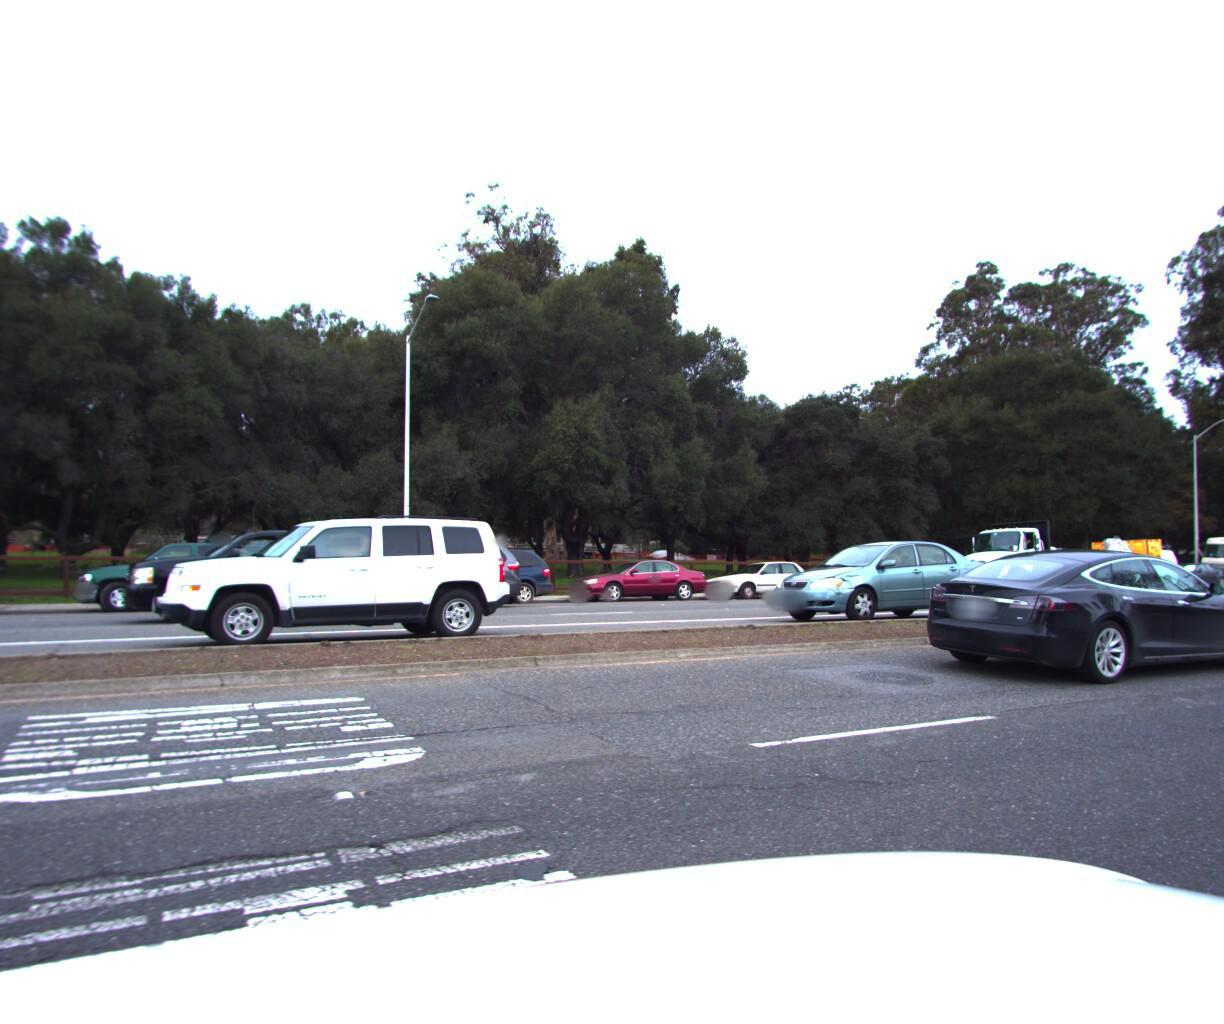car: (142, 490, 518, 644), (892, 533, 1224, 685), (104, 522, 422, 621), (756, 533, 1000, 621), (59, 535, 328, 613), (368, 541, 565, 606), (559, 552, 719, 602), (1063, 535, 1186, 587), (696, 550, 836, 595), (1147, 554, 1224, 587)
other_vehicle: (1188, 525, 1224, 585)
truck: (940, 504, 1171, 589)
